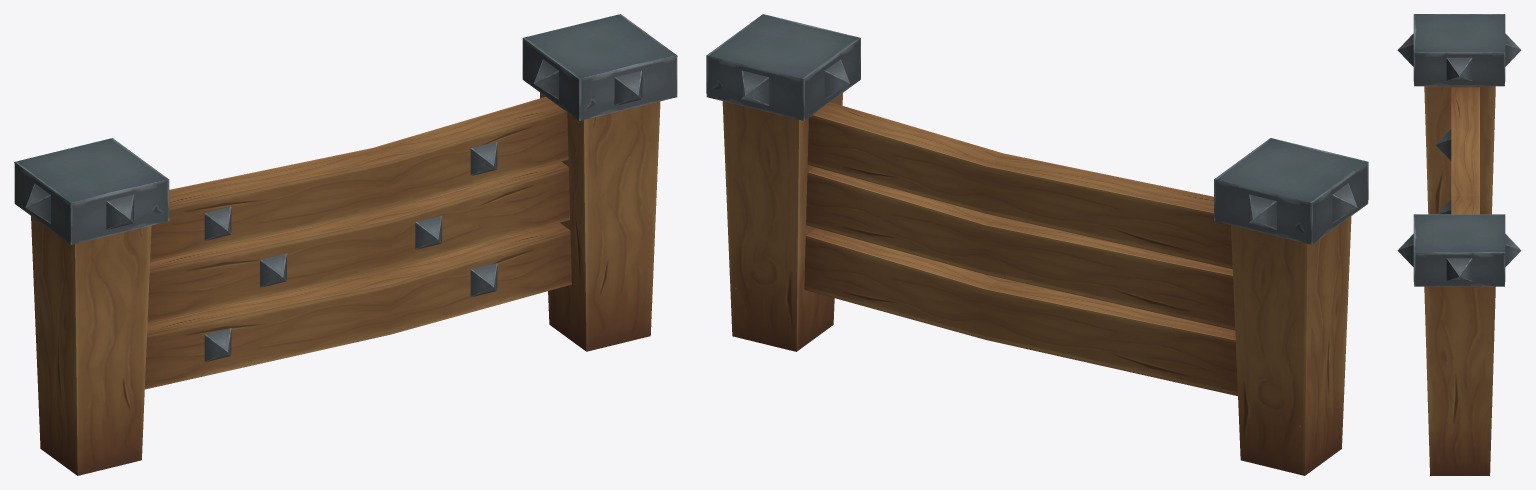
The model's file is wooden_fence_13.fbx.
3 views of the same model, side by side, from view 1: azimuth 30°, elevation 25°; view 2: azimuth 150°, elevation 25°; view 3: azimuth 270°, elevation 25° (orthographic). The views are drawn at different scales.
Visible parts, largest first — view 1: wooden_fence_13:Mesh; view 2: wooden_fence_13:Mesh; view 3: wooden_fence_13:Mesh.
Part boxes in pixels (x1=…): wooden_fence_13:Mesh: x1=14, y1=14, x2=677, y2=475; wooden_fence_13:Mesh: x1=706, y1=14, x2=1368, y2=475; wooden_fence_13:Mesh: x1=1397, y1=14, x2=1521, y2=475.
Bounding box in the file's own units: 6.83 × 2.89 × 1.42.
